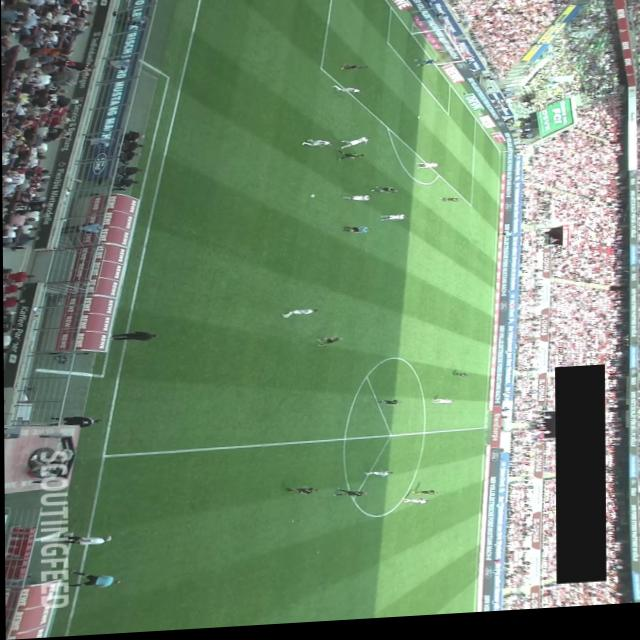goalkeeper: (413, 63, 436, 72)
player: (331, 491, 367, 503), (334, 152, 365, 165), (339, 141, 369, 154), (300, 142, 332, 154), (279, 312, 317, 322), (331, 87, 361, 99), (284, 489, 316, 500), (315, 341, 342, 351), (370, 190, 398, 199), (401, 501, 427, 510), (362, 475, 392, 482), (339, 67, 365, 75), (342, 199, 371, 206), (378, 219, 406, 226), (411, 495, 437, 502), (415, 168, 439, 175), (376, 404, 400, 411), (430, 403, 453, 410), (450, 376, 469, 384), (439, 202, 459, 208)
referee: (66, 569, 120, 591), (341, 230, 371, 239), (496, 237, 515, 244)
